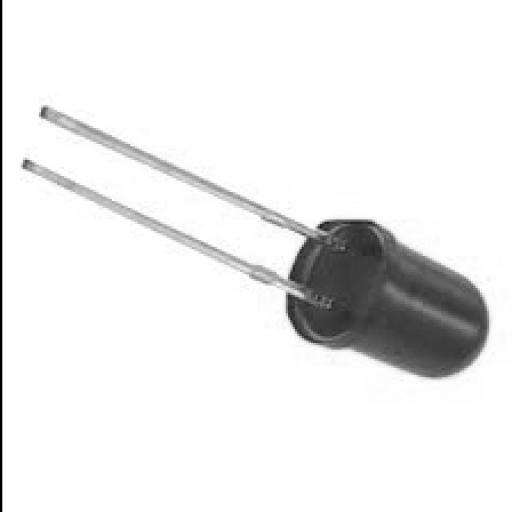LED: (5, 69, 509, 425)
